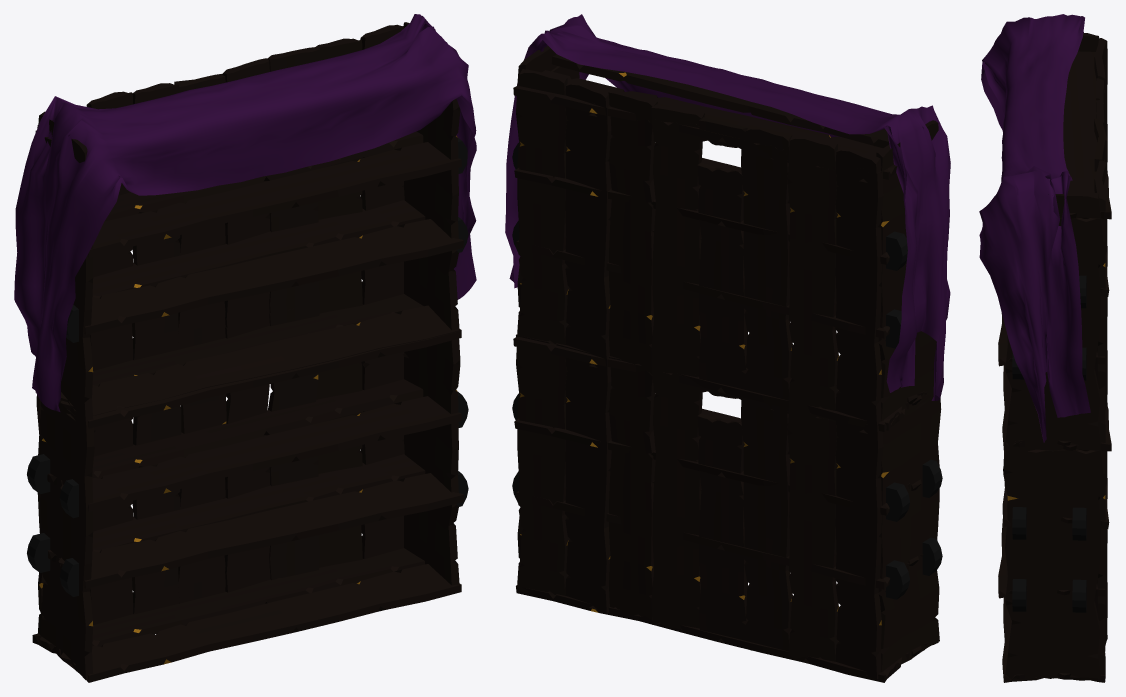
File: Regal_groß_var1.obj
3 views of the same model, side by side, from view 1: azimuth 30°, elevation 25°; view 2: azimuth 150°, elevation 25°; view 3: azimuth 270°, elevation 25° (orthographic). The views are drawn at different scales.
Visible parts, largest first — view 1: Regal_groß_Tuch; view 2: Regal_groß_Tuch; view 3: Regal_groß_Tuch.
Boxes of the visible parts, box(x1,y1,x2,y2) form: Regal_groß_Tuch: box(14, 14, 476, 682); Regal_groß_Tuch: box(505, 14, 950, 682); Regal_groß_Tuch: box(979, 14, 1111, 682).
Size of the model in its own units: 1.89 by 2.28 by 0.5388.
